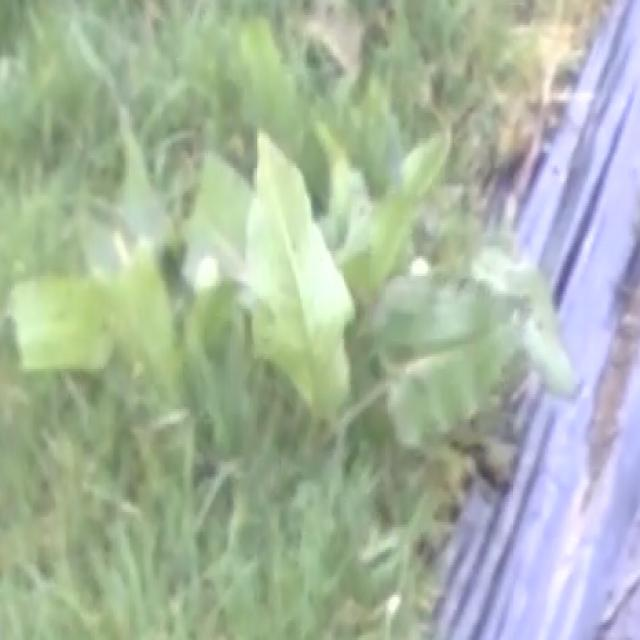organic waste: (0, 82, 575, 484), (217, 95, 595, 509)
